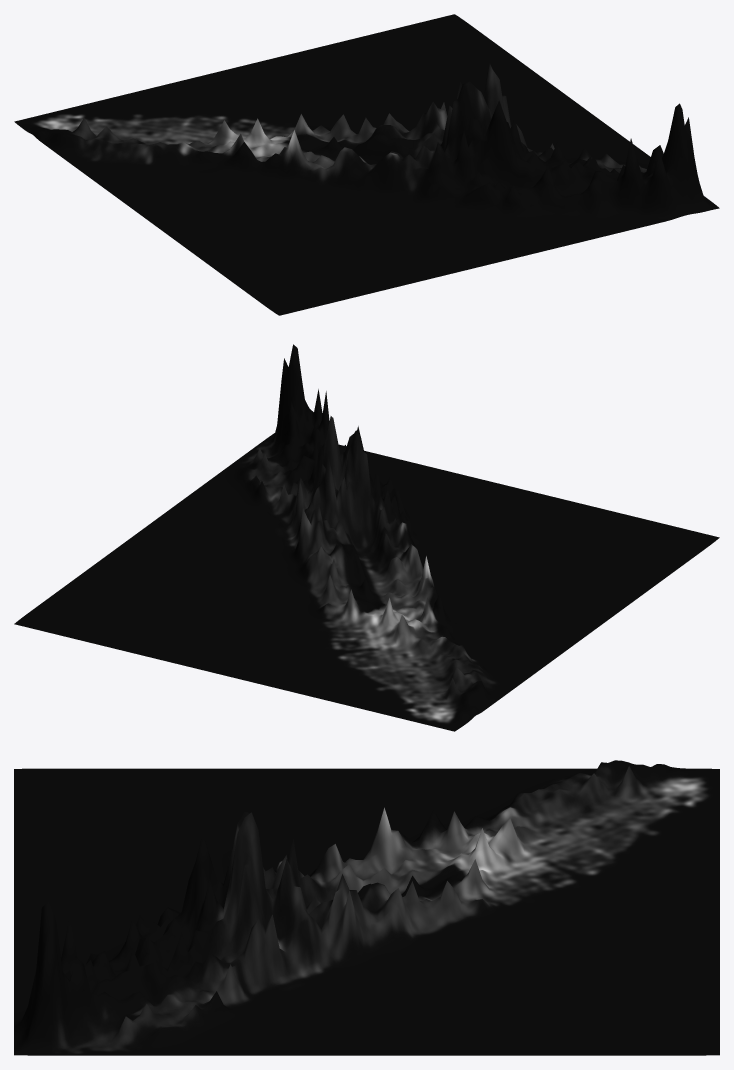
The model's file is _Manhattan-2.obj.
3 views of the same model, one above another, from view 1: azimuth 30°, elevation 25°; view 2: azimuth 150°, elevation 25°; view 3: azimuth 270°, elevation 25° (orthographic). The views are drawn at different scales.
Parts seen in each view (by area): view 1: manhattan; view 2: manhattan; view 3: manhattan.
Boxes of the visible parts, x1=… form: manhattan: x1=14, y1=14, x2=719, y2=315; manhattan: x1=14, y1=344, x2=719, y2=731; manhattan: x1=14, y1=760, x2=719, y2=1055.
Bounding box in the file's own units: 0.9622 × 0.2371 × 1.
